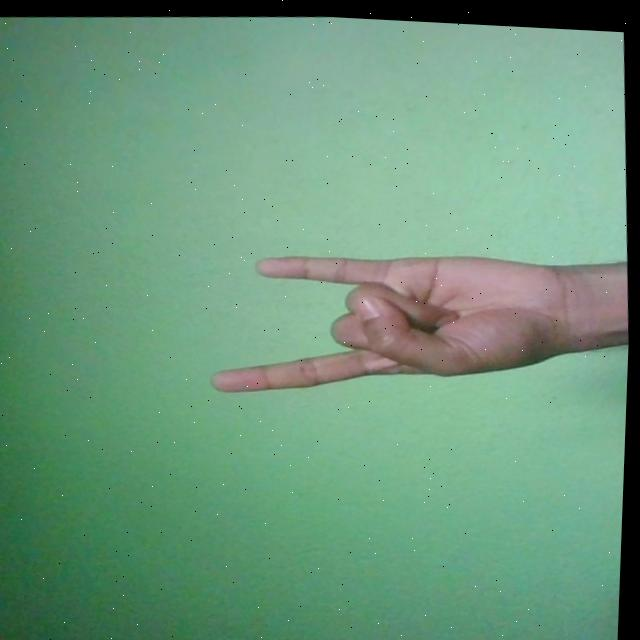Rock On: (204, 232, 584, 405)
